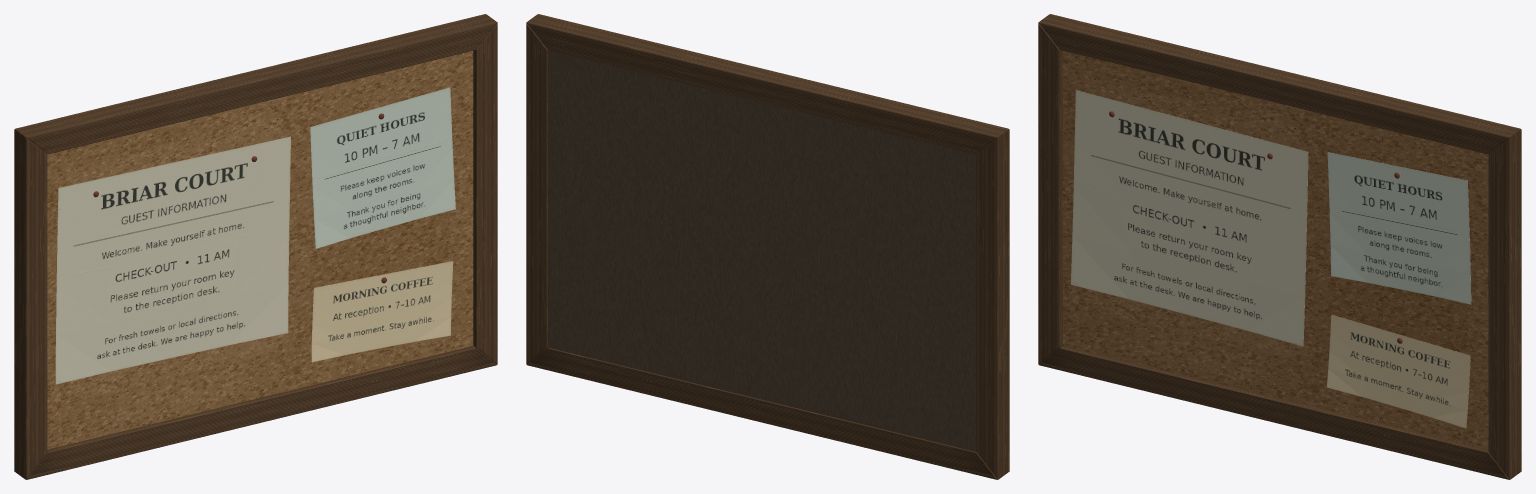
The model's file is motel_reception_noticeboard.glb.
The picture shows the model from 3 angles, left to right: view 1: azimuth 30°, elevation 25°; view 2: azimuth 150°, elevation 25°; view 3: azimuth 330°, elevation 25°; orthographic projection.
Visible parts, largest first — view 1: motel_reception_noticeboard; view 2: motel_reception_noticeboard; view 3: motel_reception_noticeboard.
Boxes of the visible parts, x1,y1,x2,y2 form: motel_reception_noticeboard: (14, 14, 497, 479); motel_reception_noticeboard: (526, 14, 1009, 479); motel_reception_noticeboard: (1038, 14, 1521, 479).
Bounding box in the file's own units: 0.72 × 0.5 × 0.032.
Materials: 1 (1 with a texture image).
